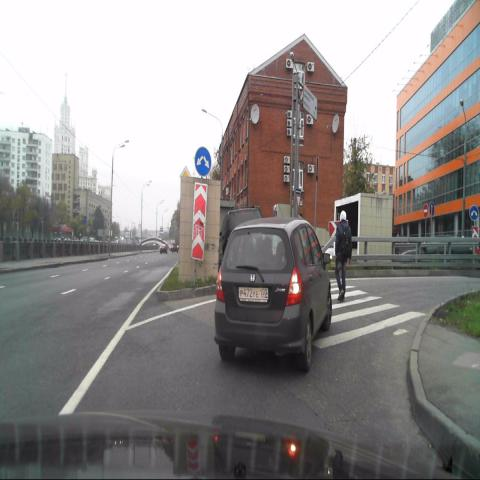4_2_3: (194, 144, 212, 175)
